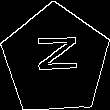N_W: (31, 39, 80, 81)
